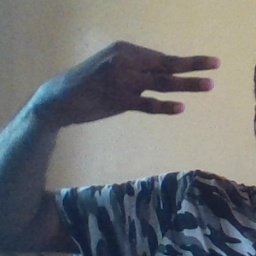K: (62, 41, 219, 120)
